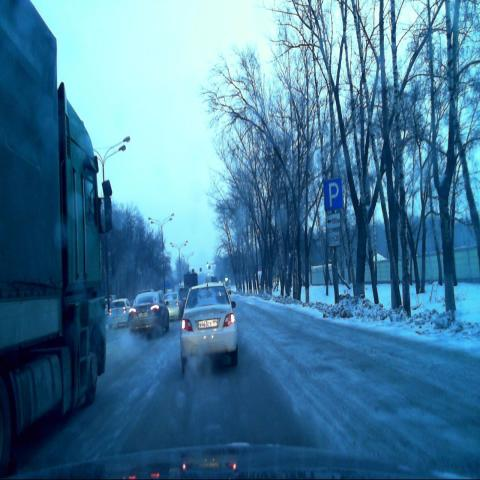8_1_4: (326, 212, 340, 229)
